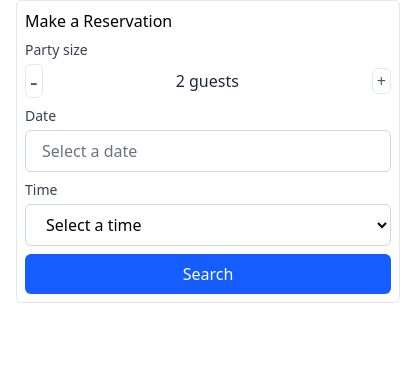
Scenario: MakeReservation › shows validation error when no date is selected
The width and height of the screenshot is (417, 368).
What coordinates should you click on to do the following:
click the button "Search"
I would click on:
 (208, 274)
Its box is x1=25 y1=254 x2=391 y2=294.
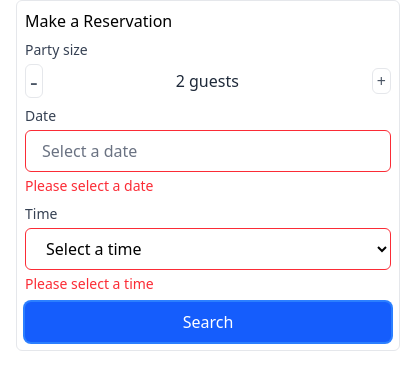
Now the text "Please select a date" is shown, box x1=25 y1=176 x2=154 y2=195
